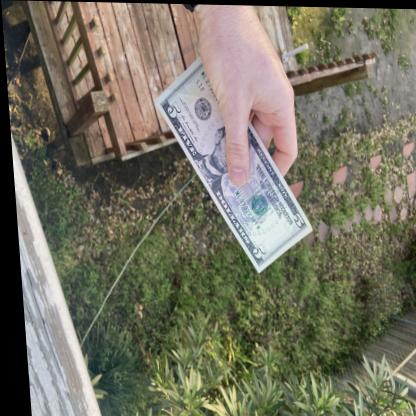five-front: (150, 55, 313, 274)
